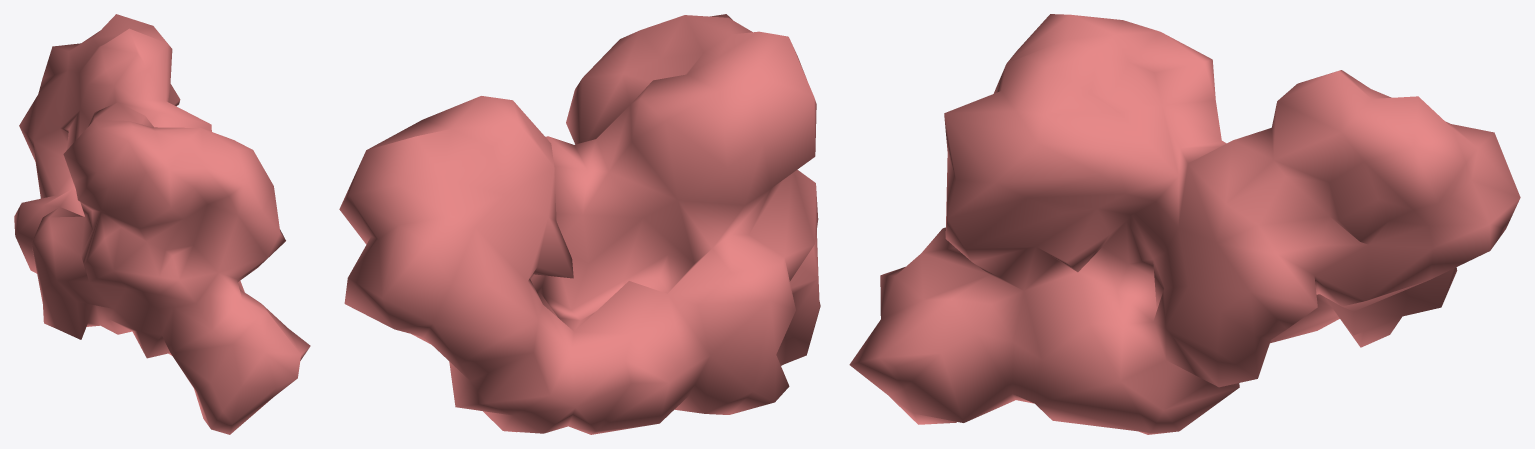
Rendered from MiinBloodPlasma_C3_2a73_0_1_0.dae.
3 views of the same model, side by side, from view 1: azimuth 30°, elevation 25°; view 2: azimuth 150°, elevation 25°; view 3: azimuth 270°, elevation 25° (orthographic). The views are drawn at different scales.
Parts seen in each view (by area): view 1: CoarseMS_2a73; view 2: CoarseMS_2a73; view 3: CoarseMS_2a73.
Part boxes in pixels (box(x1,y1,x2,y2)): CoarseMS_2a73: box(14, 14, 310, 434); CoarseMS_2a73: box(339, 14, 820, 434); CoarseMS_2a73: box(849, 14, 1520, 434).
Bounding box in the file's own units: 84.1 × 100 × 157.
